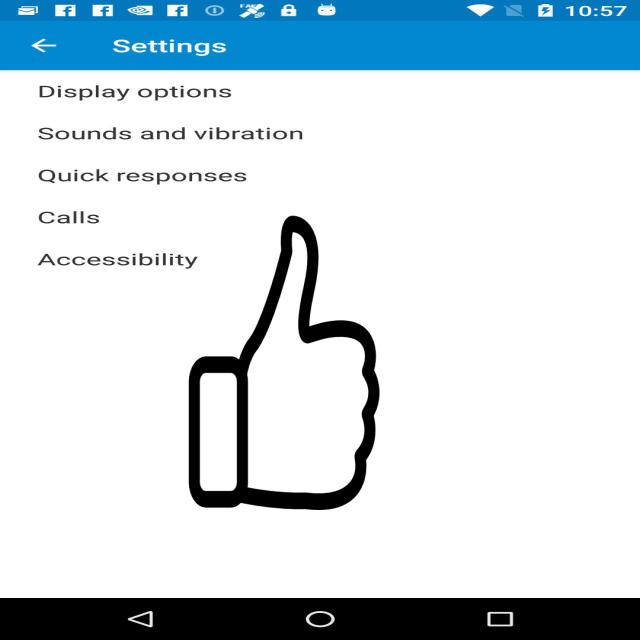privacy zuckering: (186, 216, 382, 510)
